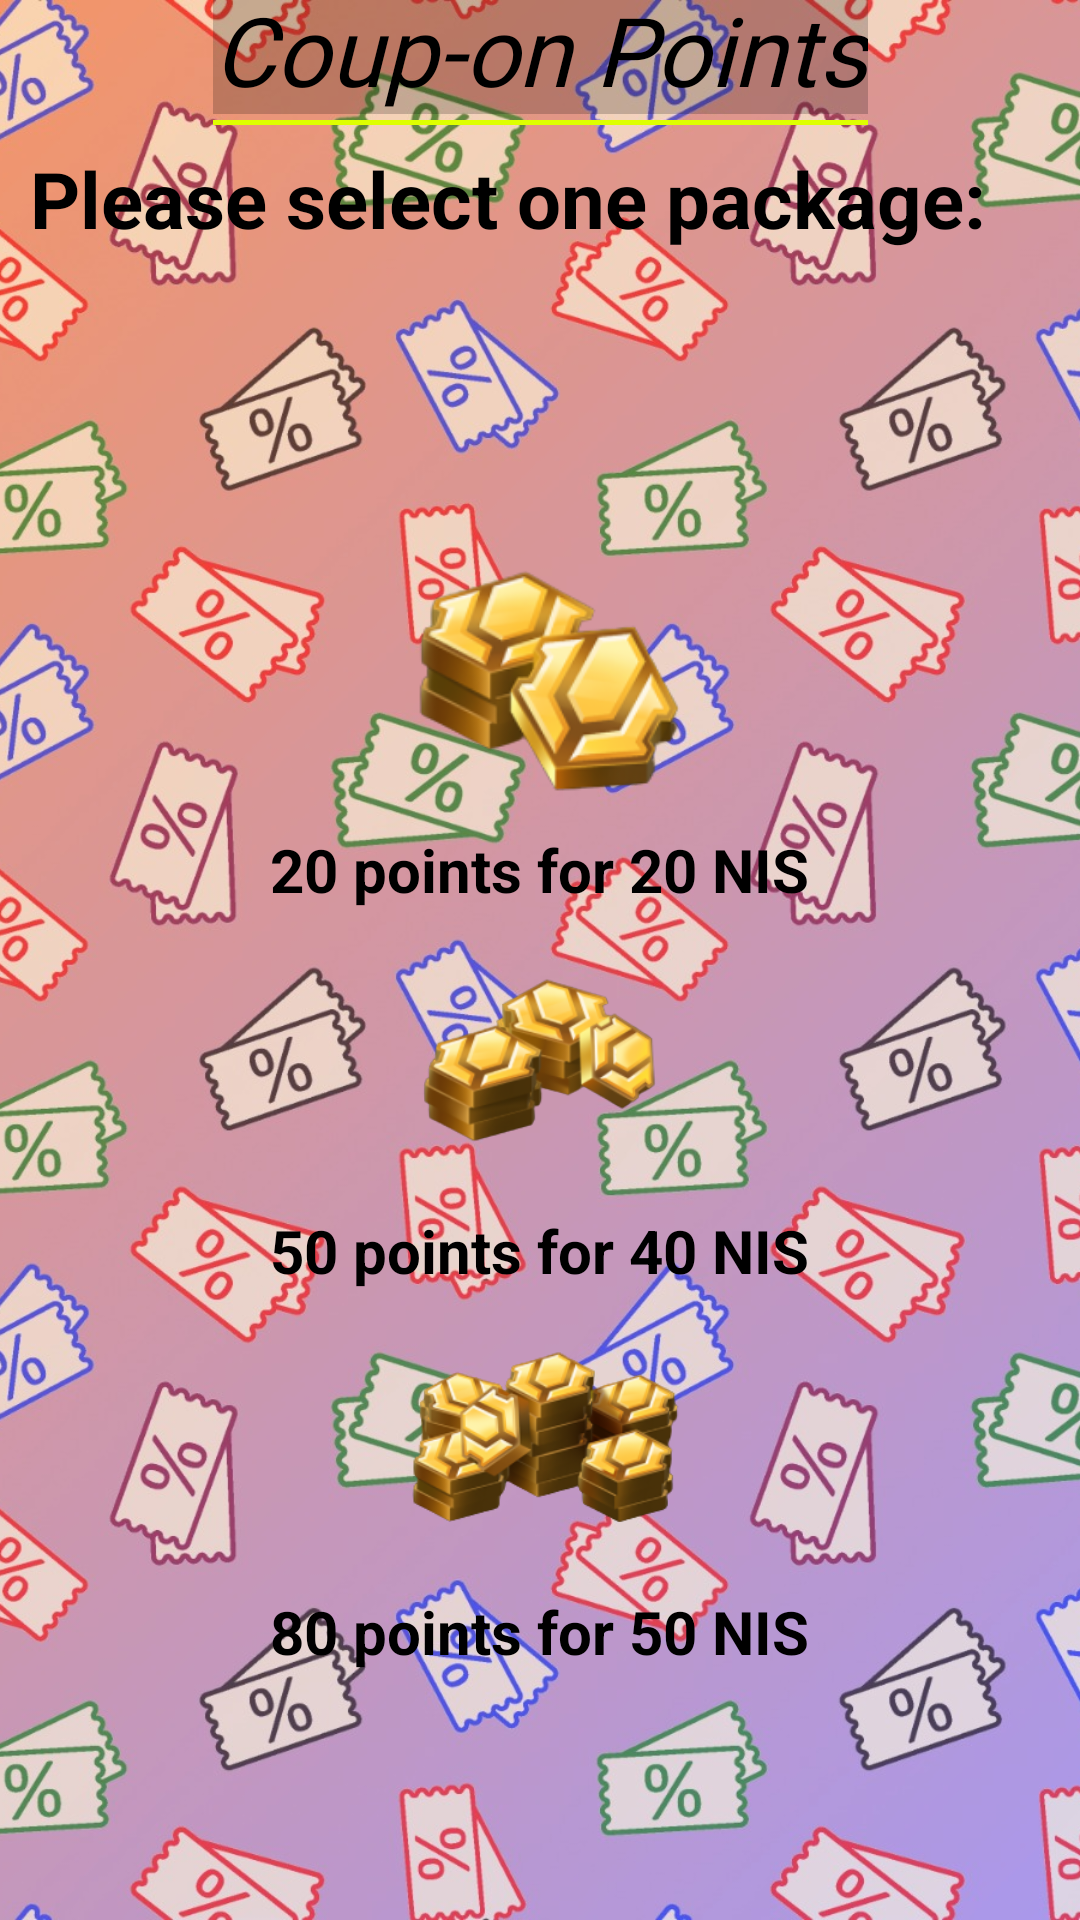

Icons on this 1080 x 1920 Android screen, each with the point to tap as (x=x, y=y):
package cp: (x=540, y=679), (x=542, y=1060), (x=540, y=1441)
